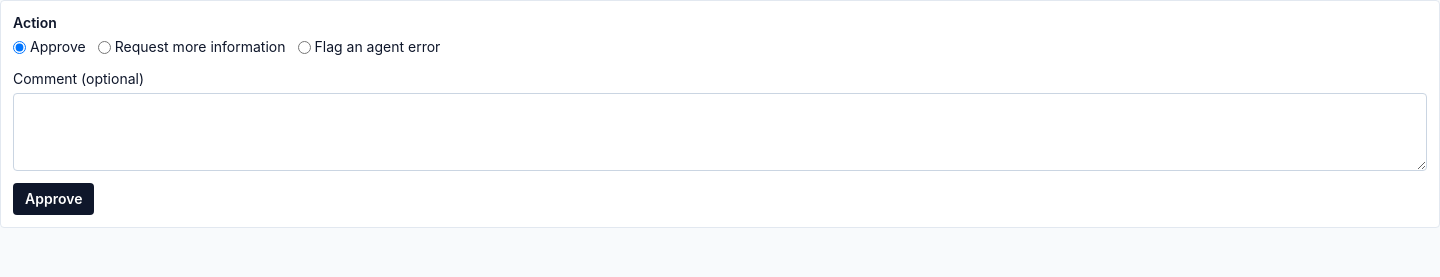
ReviewActions › shows the API's error instead of a confirmation
Click the button "Approve": (54, 199) [13, 183, 94, 215]
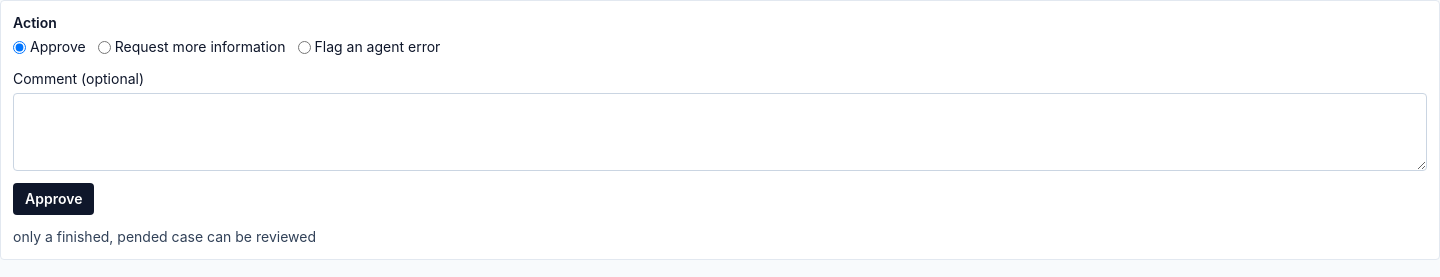
Expected: the message reads "only a finished, pended case can be reviewed", [13, 228, 316, 245]
